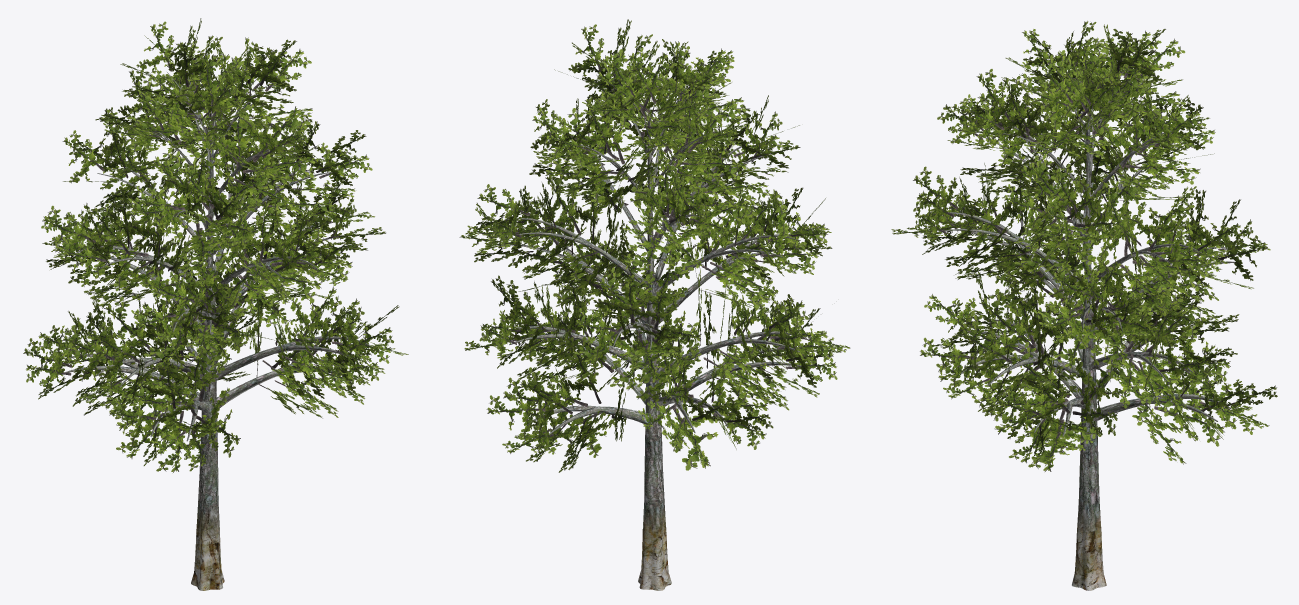
File: tree_lowpoly.glb
3 renders of one model, left to right at view 1: azimuth 30°, elevation 25°; view 2: azimuth 150°, elevation 25°; view 3: azimuth 270°, elevation 25°, orthographic.
Visible parts, largest first — view 1: LowPolyTree_Default OBJ_0, LowPolyTree.002_Default OBJ.001_0; view 2: LowPolyTree_Default OBJ_0, LowPolyTree.002_Default OBJ.001_0; view 3: LowPolyTree_Default OBJ_0, LowPolyTree.002_Default OBJ.001_0.
Part boxes in pixels (x1,y1,x2,y2): LowPolyTree_Default OBJ_0: (23, 18, 408, 472); LowPolyTree.002_Default OBJ.001_0: (65, 69, 369, 590); LowPolyTree_Default OBJ_0: (459, 19, 850, 472); LowPolyTree.002_Default OBJ.001_0: (499, 74, 806, 590); LowPolyTree_Default OBJ_0: (891, 21, 1277, 471); LowPolyTree.002_Default OBJ.001_0: (933, 66, 1234, 590).
Size of the model in its own units: 980 by 1457 by 940.
Materials: 2 (2 with a texture image).
